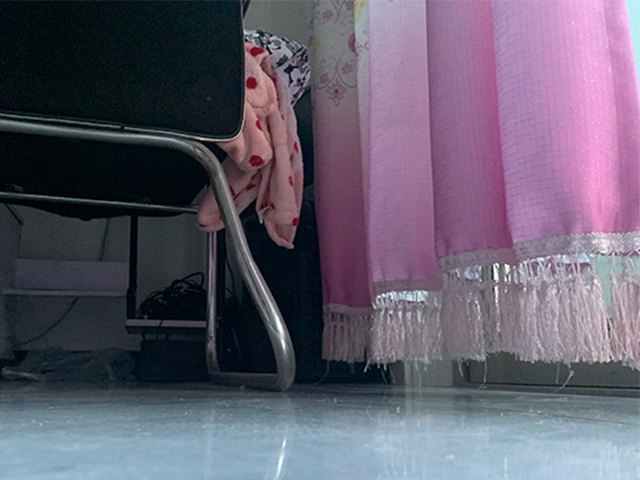curtain: (307, 1, 640, 370)
stool: (1, 1, 295, 393)
